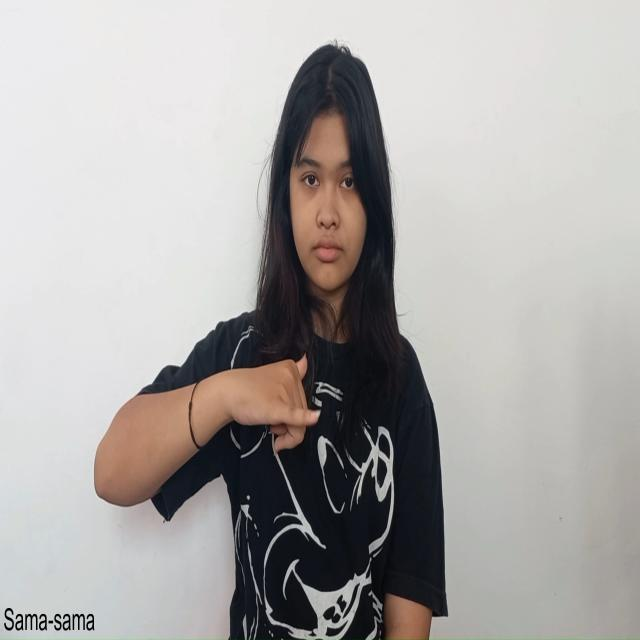Sama-sama -BISINDO-: (222, 351, 322, 458)
